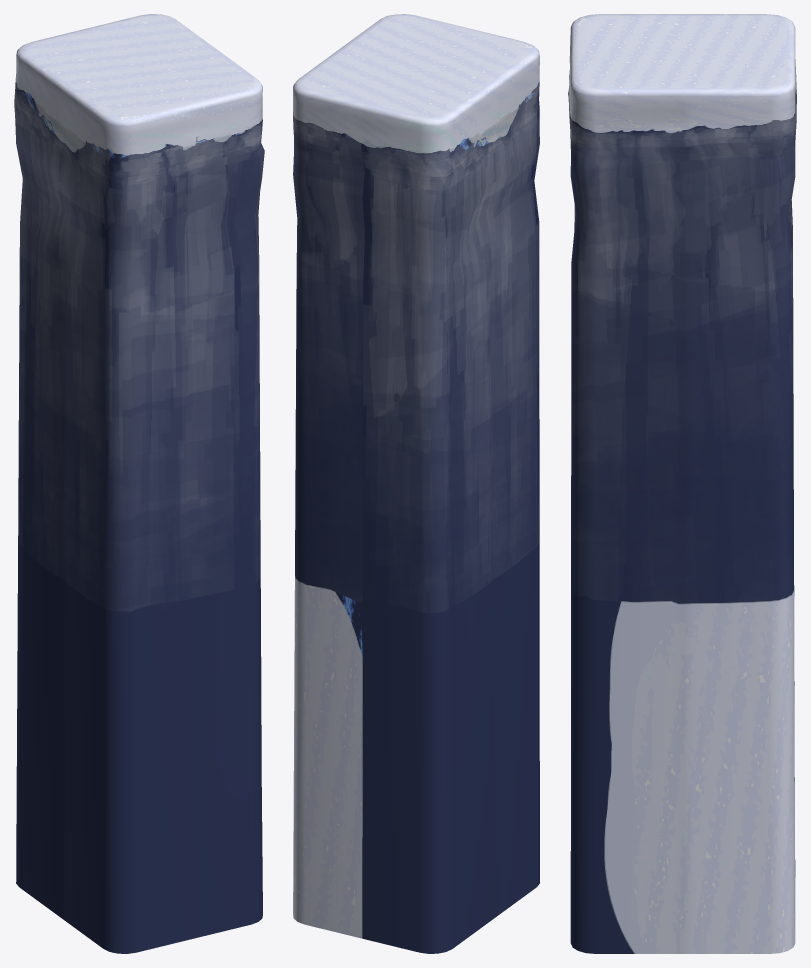
Rendered from Platform_Cube_Medium.fbx.
3 renders of one model, left to right at view 1: azimuth 30°, elevation 25°; view 2: azimuth 150°, elevation 25°; view 3: azimuth 270°, elevation 25°, orthographic. The views are drawn at different scales.
Parts seen in each view (by area): view 1: Platform default; view 2: Platform default; view 3: Platform default.
Part boxes in pixels (x1,y1,x2,y2): Platform default: [14, 14, 264, 953]; Platform default: [293, 14, 539, 953]; Platform default: [568, 14, 796, 953].
Size of the model in its own units: 8548 by 42213 by 10149.
